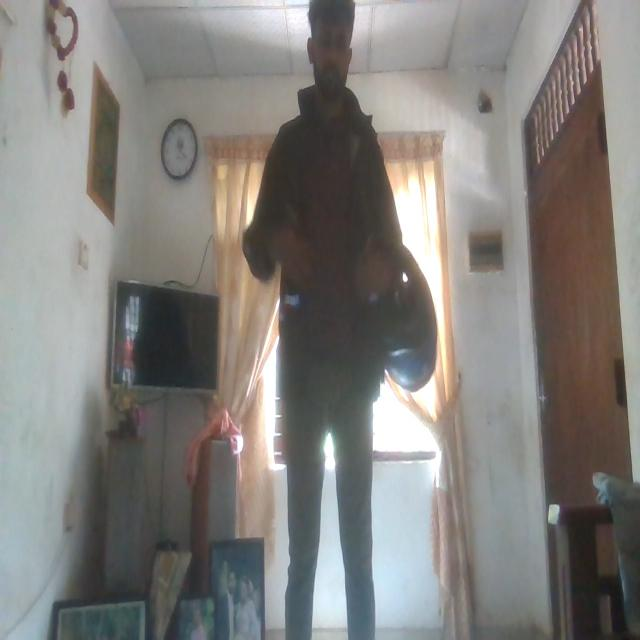Jacket_Wearer: (245, 86, 405, 427)
Person: (236, 0, 404, 632)
